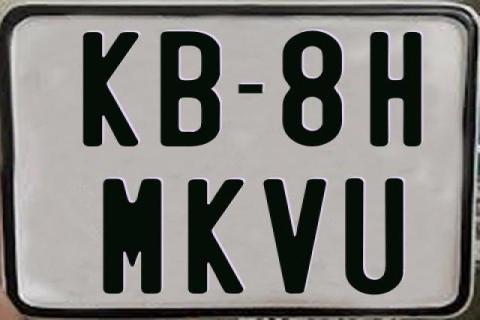0: (279, 31, 341, 150)
B: (159, 29, 219, 149)
H: (368, 30, 423, 144)
K: (187, 180, 246, 298), (84, 30, 140, 150)
M: (103, 178, 167, 298)
U: (342, 178, 400, 296)
V: (263, 178, 328, 294)
